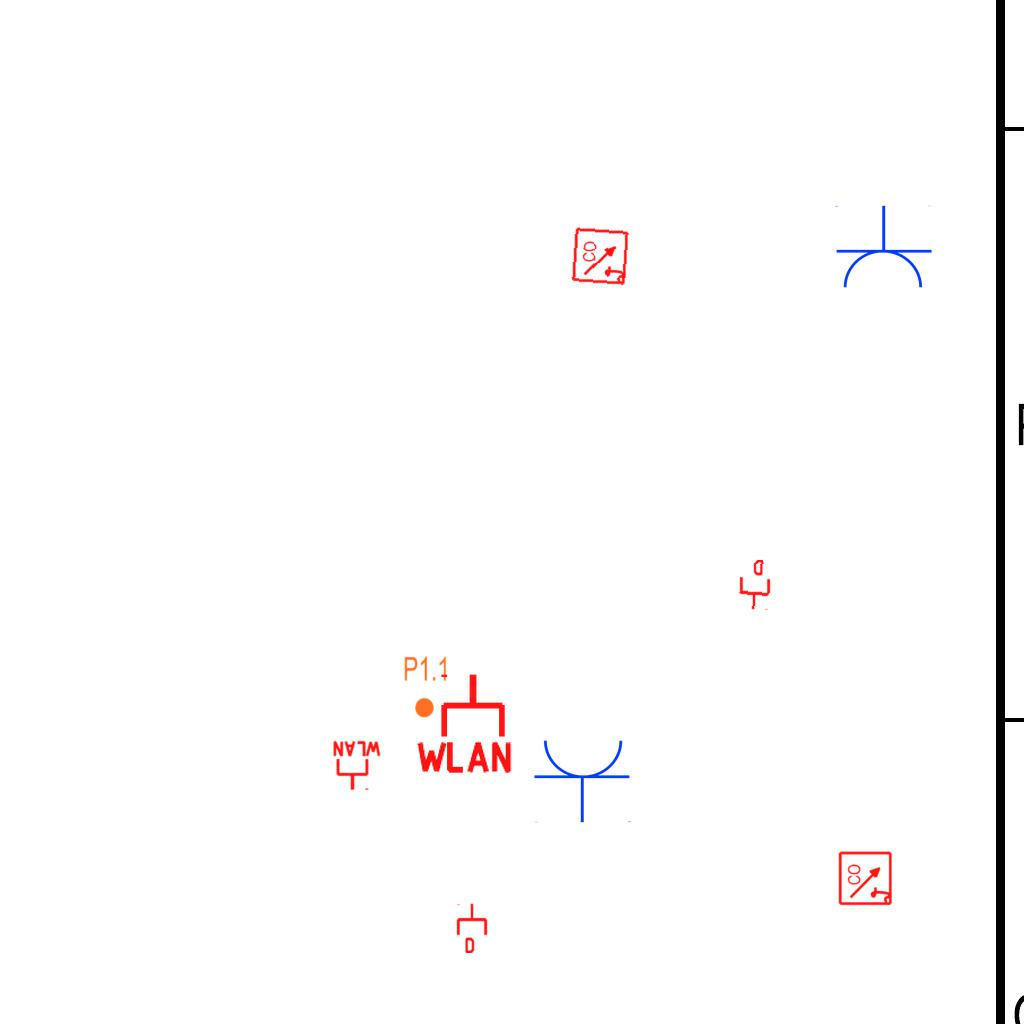Datenanschluss_einfach: (736, 558, 774, 612), (455, 903, 489, 953)
Downlight_LED_Einbauleuchten_Flur: (403, 655, 449, 719)
ROA_Rauchmelder_optisch_mit_Signalgeber_(Sockelsirene): (571, 226, 631, 286), (838, 850, 894, 906)
Schukosteckdose_einfach: (533, 736, 633, 823), (833, 205, 933, 292)
WLAN: (412, 670, 516, 775), (331, 740, 383, 792)
